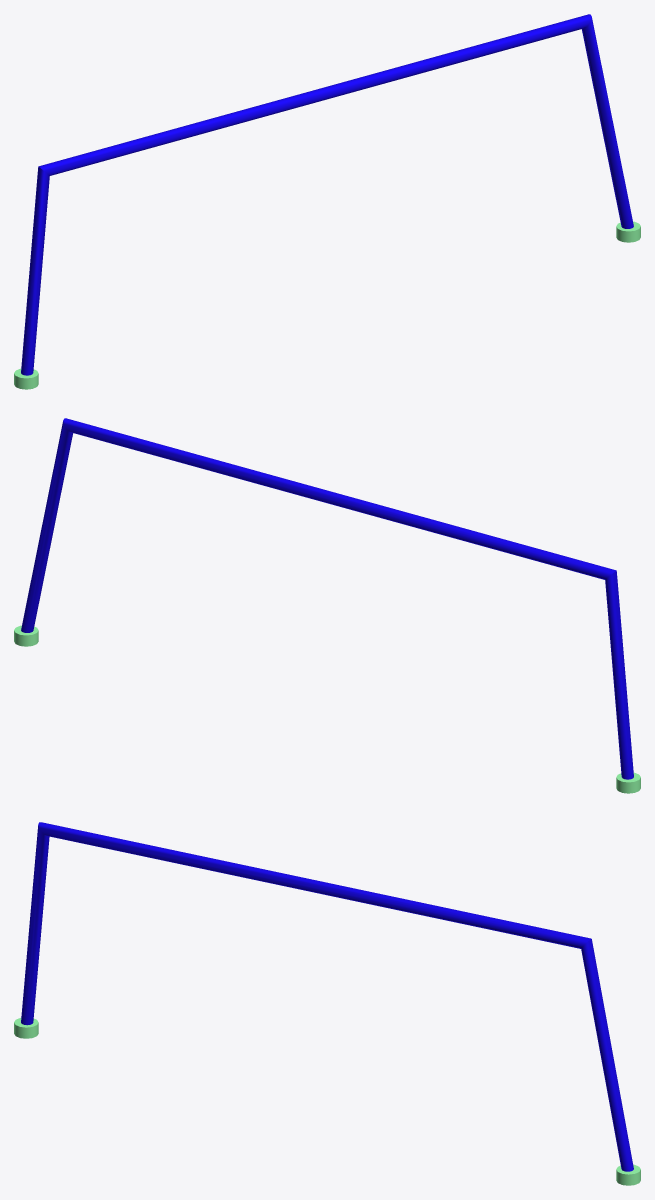
3 renders of one model, top to bottom at view 1: azimuth 30°, elevation 25°; view 2: azimuth 150°, elevation 25°; view 3: azimuth 330°, elevation 25°, orthographic.
Parts seen in each view (by area): view 1: Line006; view 2: Line006; view 3: Line006.
Boxes of the visible parts, x1,y1,x2,y2 form: Line006: (14, 14, 640, 389); Line006: (14, 418, 640, 793); Line006: (14, 822, 640, 1185).
Size of the model in its own units: 291 by 104 by 10.
